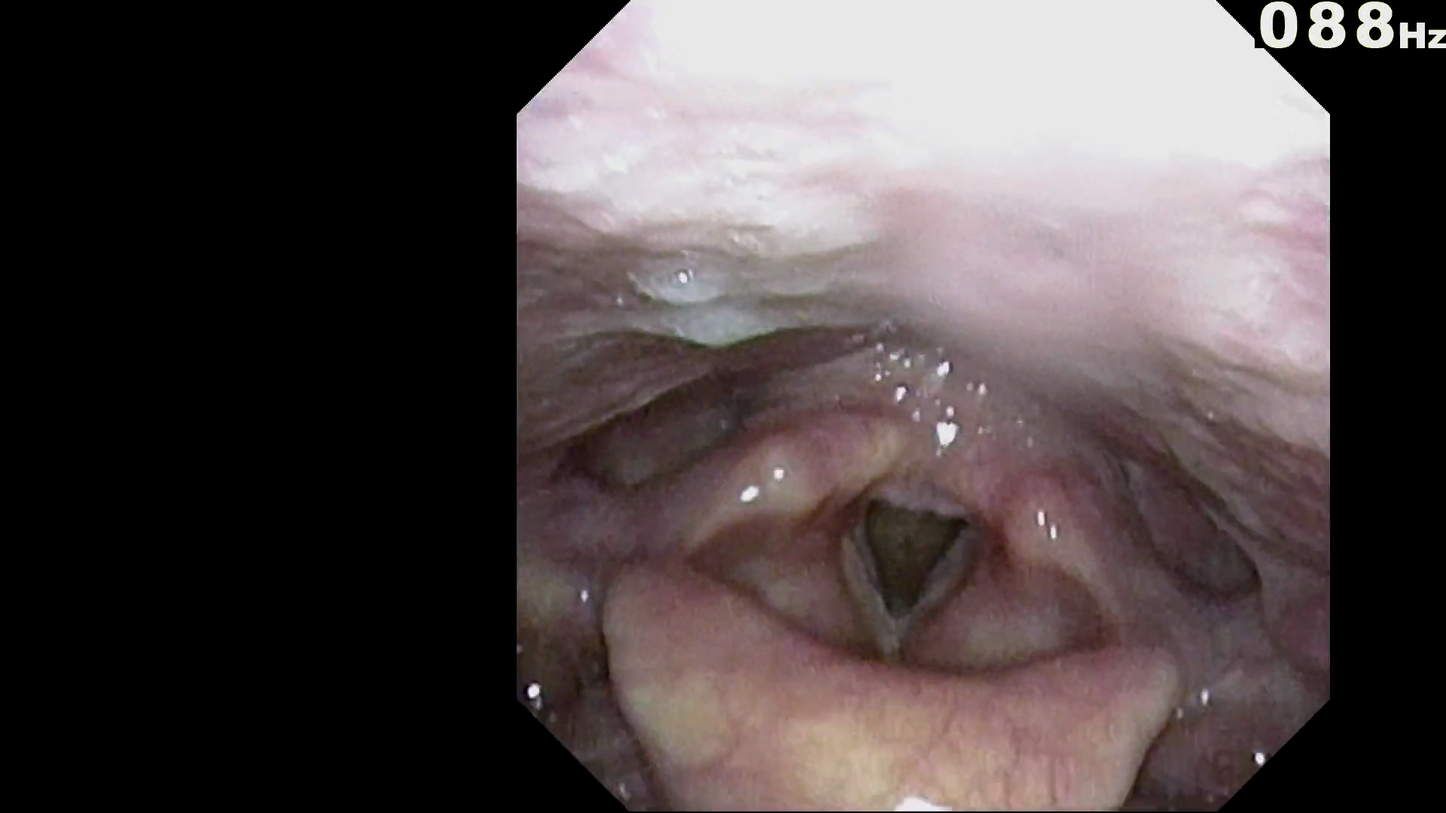epiglottis: (628, 640, 1187, 800)
trachea: (852, 471, 971, 635)
